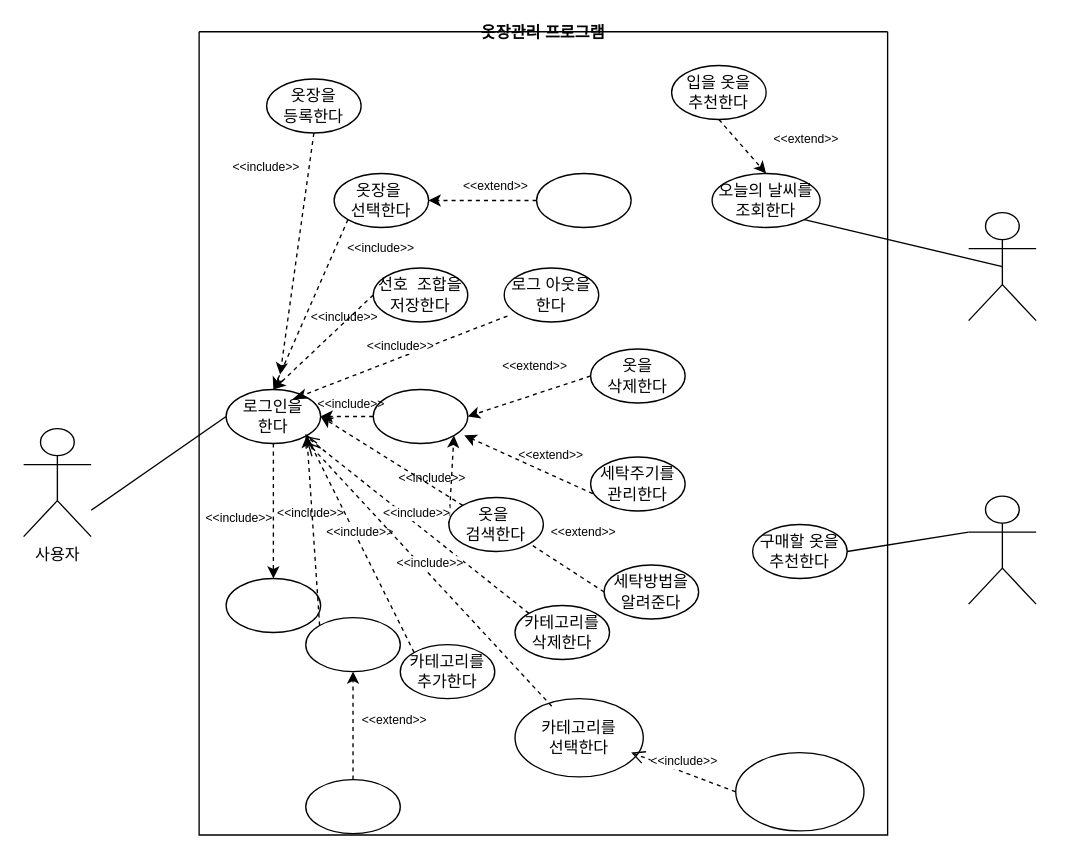
Some shapes in this 1083 by 859 pixel diagram are drawn without their labels. Each missing label, with the centre of its shape:
"구매 추천 시스템" belongs at point (1001, 549).
"날씨 정보 시스템" belongs at point (1001, 266).
"옷을 선택 한다" belongs at point (420, 415).
"옷을 추가한다" belongs at point (352, 644).
"옷장을 삭제한다" belongs at point (583, 199).
"카테고리 목록을 보여준다" belongs at point (799, 791).
"카테고리를 지정한다" belongs at point (352, 806).
"회원가입을 한다" belongs at point (273, 604).
